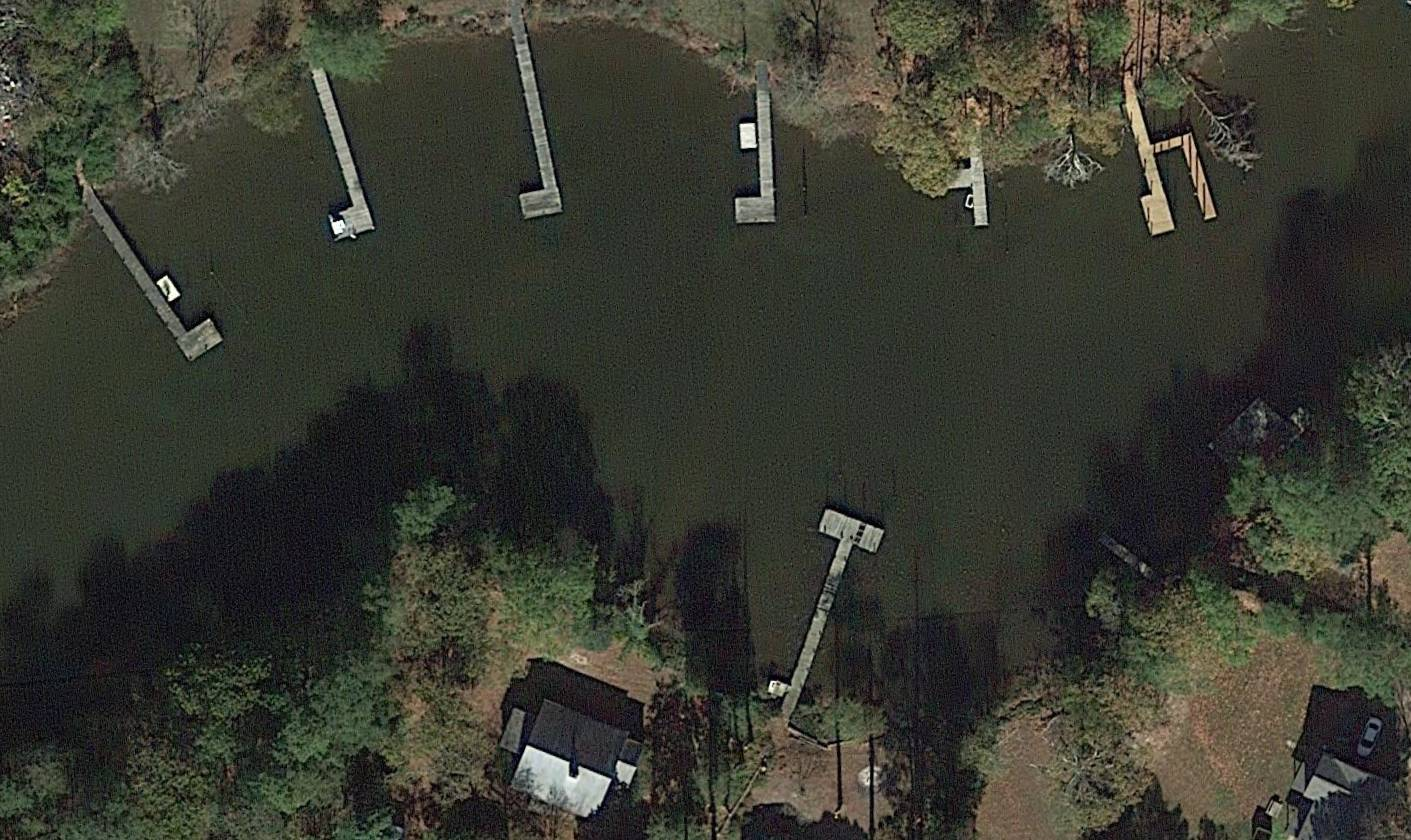harbor: (93, 194, 225, 364), (767, 508, 885, 687), (1114, 80, 1218, 239), (295, 77, 376, 241), (494, 47, 564, 221), (936, 119, 989, 226), (731, 107, 777, 225)
